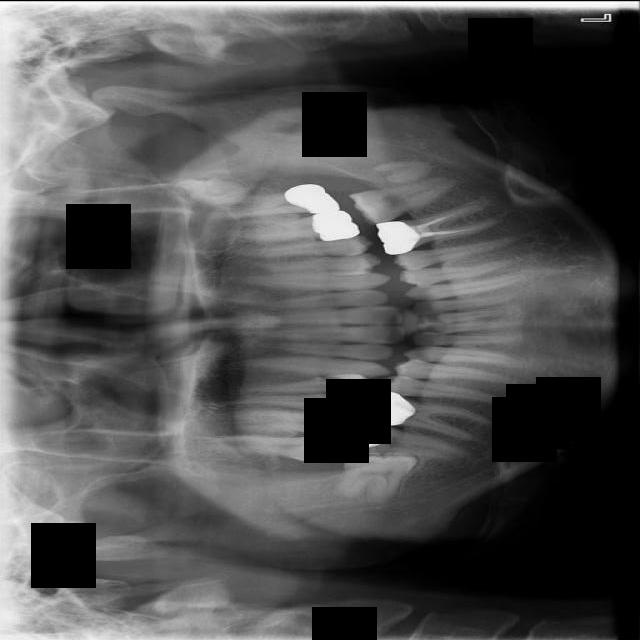52: (345, 415, 407, 462), (364, 384, 417, 435), (375, 211, 432, 257), (311, 207, 361, 242), (304, 407, 360, 437), (325, 373, 378, 395)
73: (413, 200, 498, 244), (540, 66, 548, 66)
BioHorizons Implant: (203, 182, 340, 219)
BioLife Implant: (175, 175, 248, 207)
Biomet 3i Implant: (377, 160, 431, 183)
Blue Sky Bio Implant: (349, 174, 462, 228)
Caries: (198, 436, 337, 461)
Implant: (346, 418, 473, 462)
Keystone Dental Implant: (335, 440, 418, 509)
